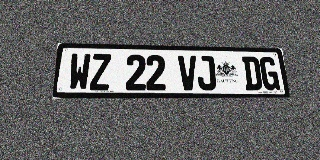2: (126, 54, 146, 90), (146, 55, 166, 90)
D: (242, 56, 263, 90)
G: (259, 57, 280, 90)
J: (196, 56, 217, 90)
V: (178, 55, 198, 90)
W: (68, 53, 91, 90)
Z: (89, 54, 111, 90)
